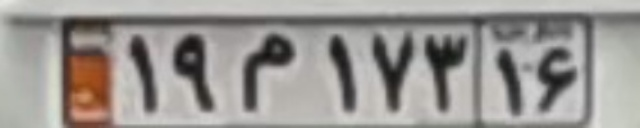1: (126, 33, 158, 111), (327, 33, 356, 111), (494, 49, 521, 116)
3: (425, 31, 470, 111)
6: (535, 45, 580, 113)
7: (370, 28, 413, 112)
9: (172, 33, 214, 111)
mim: (239, 32, 295, 113)
